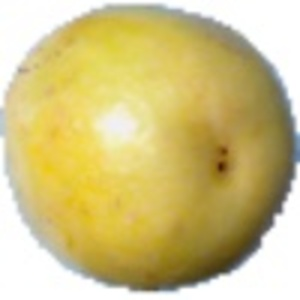maracujá: (1, 3, 300, 296)
